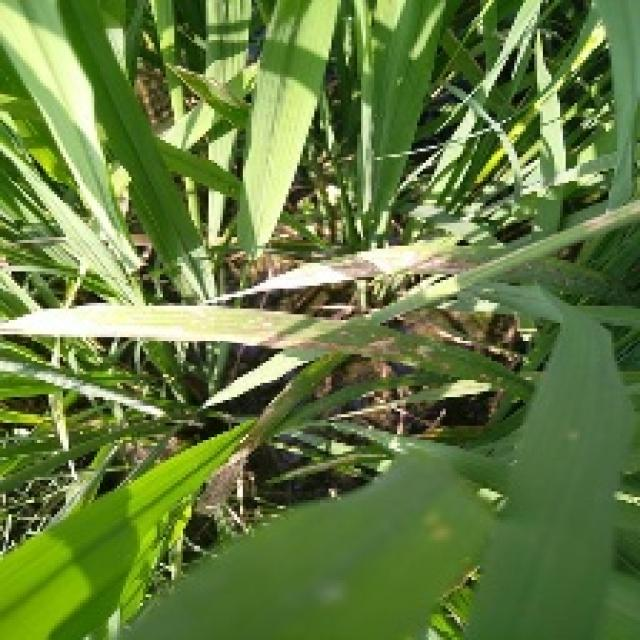Unhealthy: (0, 317, 401, 358), (249, 254, 479, 289), (237, 384, 292, 450), (419, 511, 450, 542), (583, 211, 619, 232), (407, 342, 444, 362), (332, 325, 354, 338), (566, 428, 584, 442), (476, 371, 493, 383), (436, 361, 454, 372)
